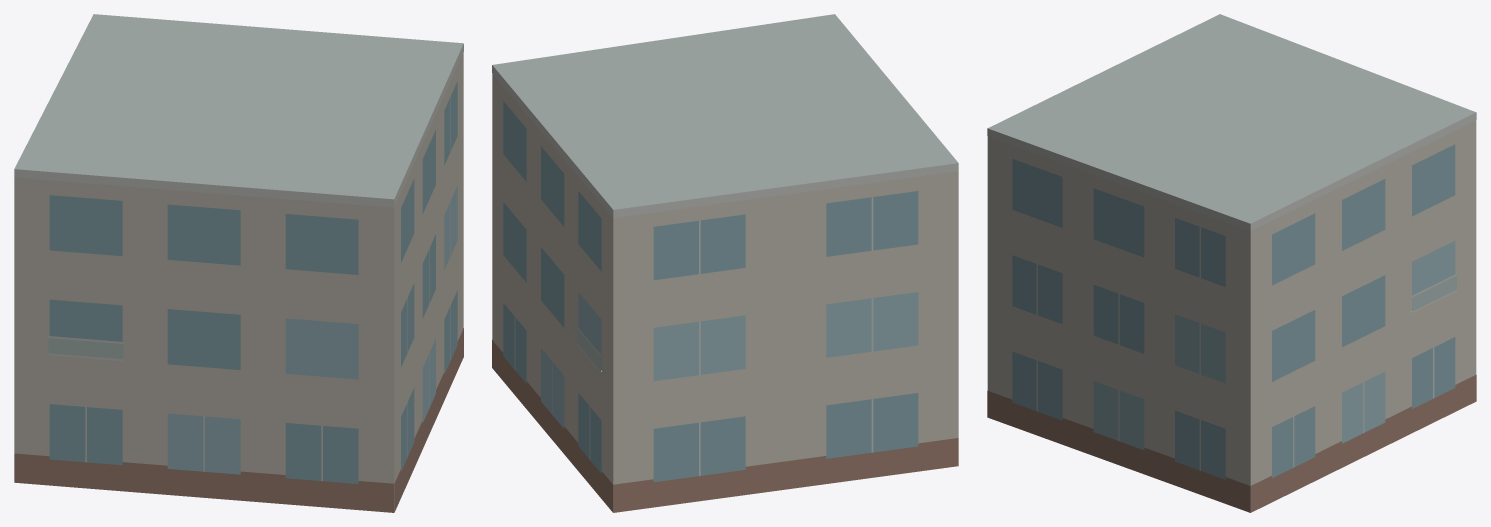
File: survey-upis-32490887.glb
The picture shows the model from 3 angles, left to right: view 1: azimuth 30°, elevation 25°; view 2: azimuth 150°, elevation 25°; view 3: azimuth 270°, elevation 25°; orthographic projection. The views are drawn at different scales.
Parts seen in each view (by area): view 1: survey-upis-32490887.tmp; view 2: survey-upis-32490887.tmp; view 3: survey-upis-32490887.tmp.
Boxes of the visible parts, x1,y1,x2,y2 form: survey-upis-32490887.tmp: (14, 14, 463, 512); survey-upis-32490887.tmp: (492, 14, 958, 512); survey-upis-32490887.tmp: (987, 14, 1476, 512).
Size of the model in its own units: 14.25 by 9.15 by 14.03.
